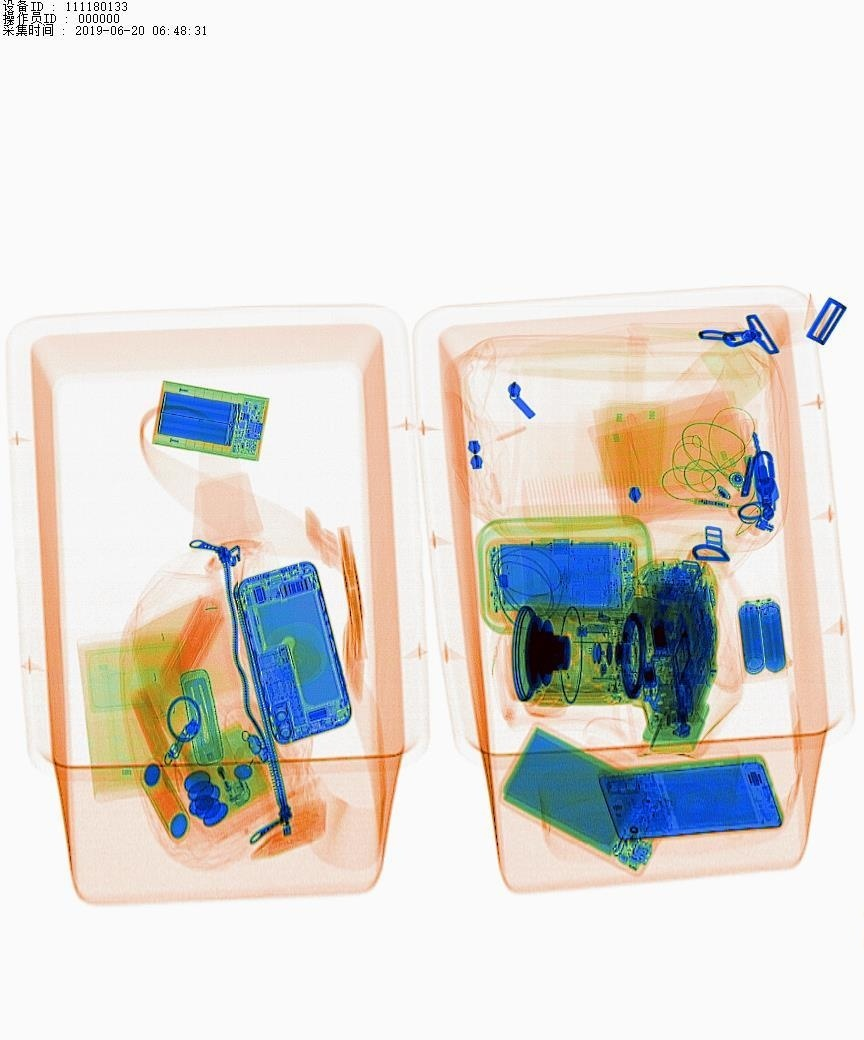NonmetallicFire: (206, 723, 254, 823)
